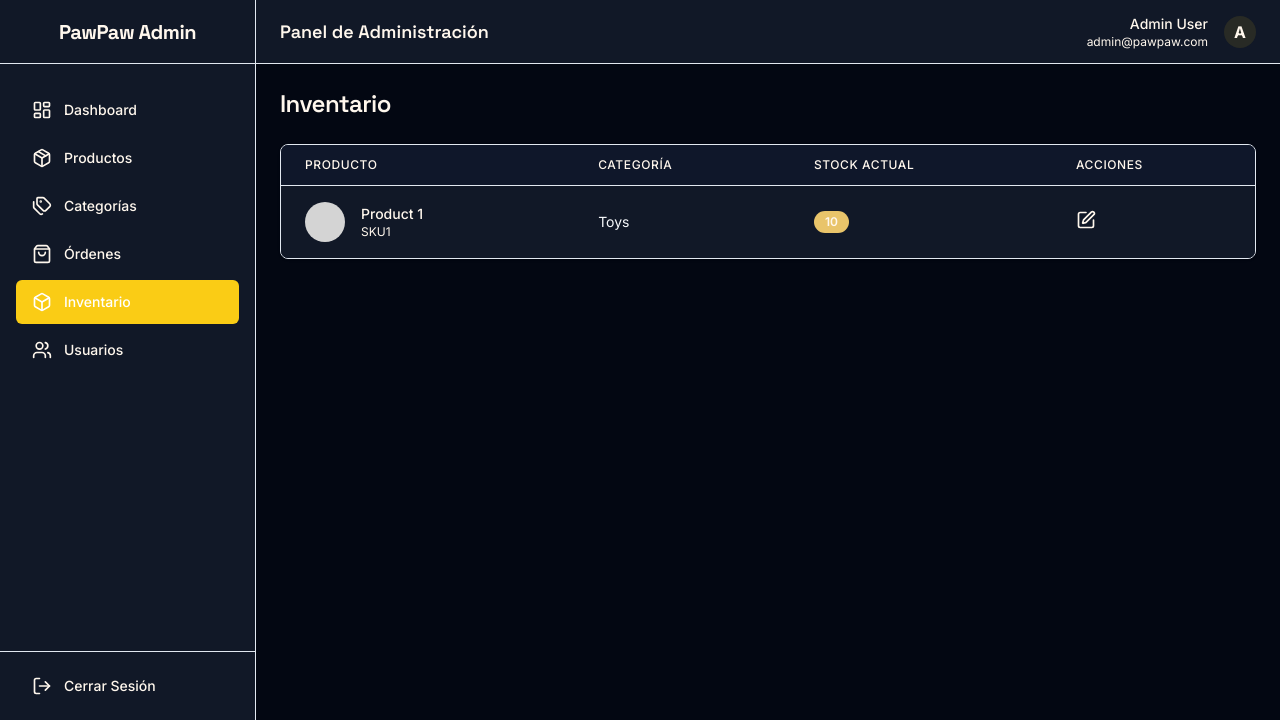
Test: Admin Panel Flows › should manage inventory (Stock)
Expected: the text "Product 1" is shown, [361,204,423,224]
Expected: the text "10" is shown, [814,211,849,233]
Click the button titled "Actualizar Stock". click: coordinates (1086, 220)
box: [1076,210,1096,230]
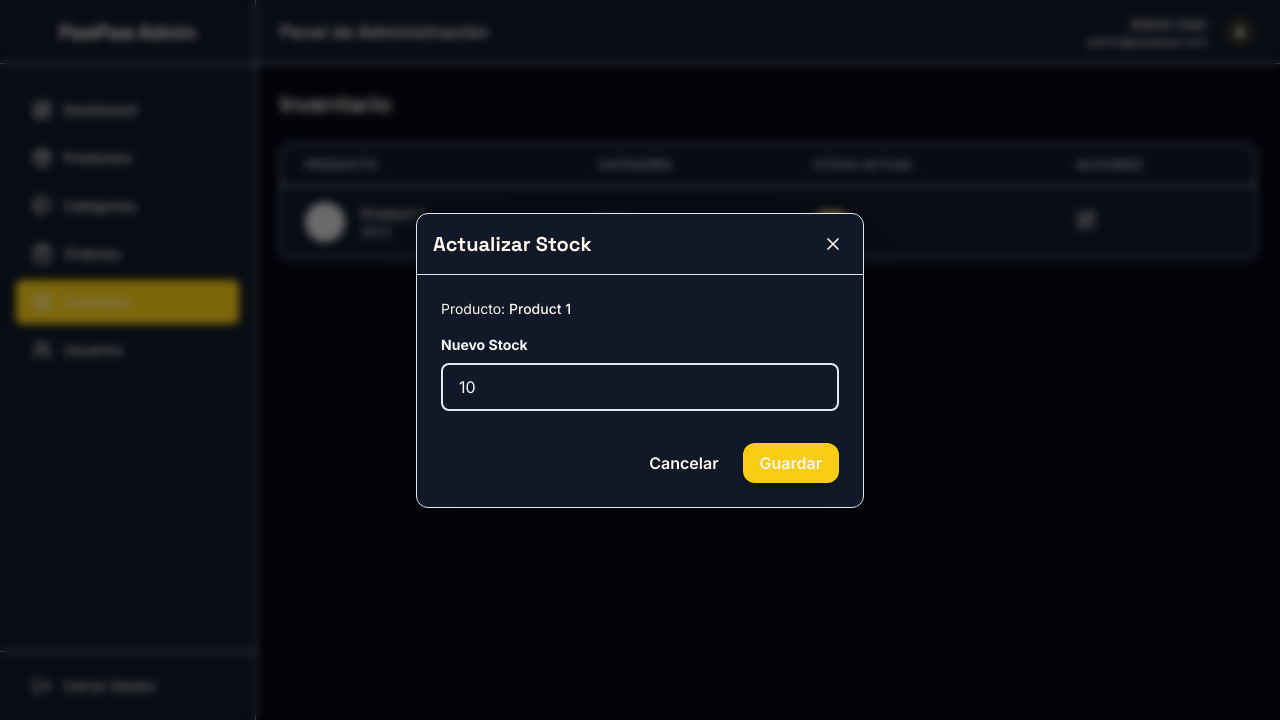
Replace the text in the number field labelled "Nuevo Stock" with "20". click: coordinates (640, 387)
box: [441,363,839,411]
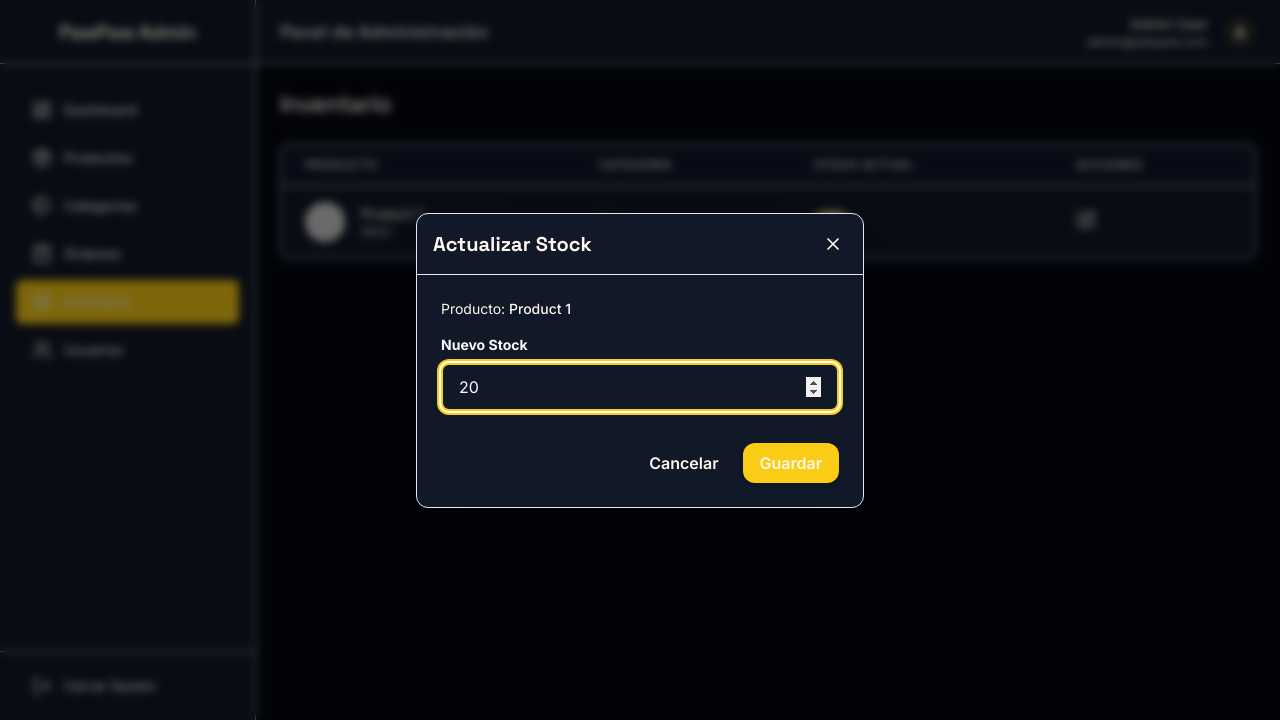
Click the button "Guardar". click: coordinates (792, 463)
box: [743,443,840,483]
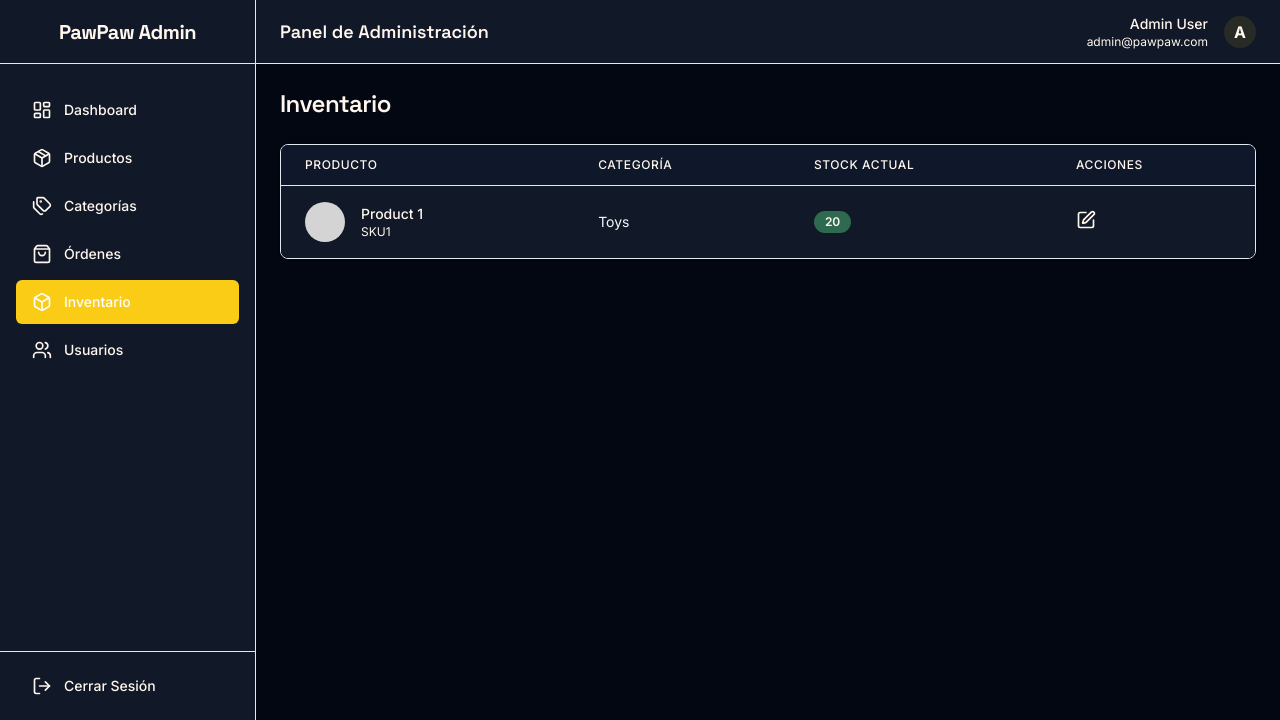
Now the text "20" is shown, box [814,211,851,233]
